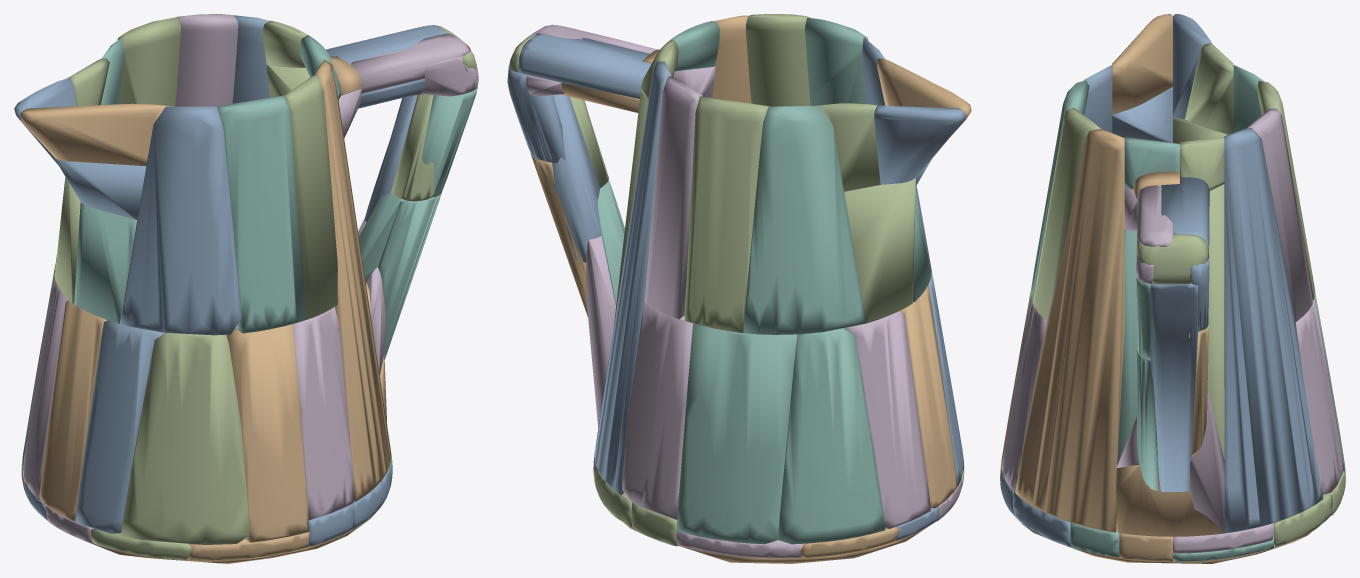
3 views of the same model, side by side, from view 1: azimuth 30°, elevation 25°; view 2: azimuth 150°, elevation 25°; view 3: azimuth 270°, elevation 25° (orthographic). The views are drawn at different scales.
Size of the model in its own units: 1.49 by 1.39 by 1.06.
